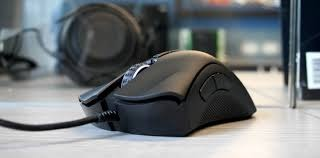mouse: (73, 52, 263, 138)
